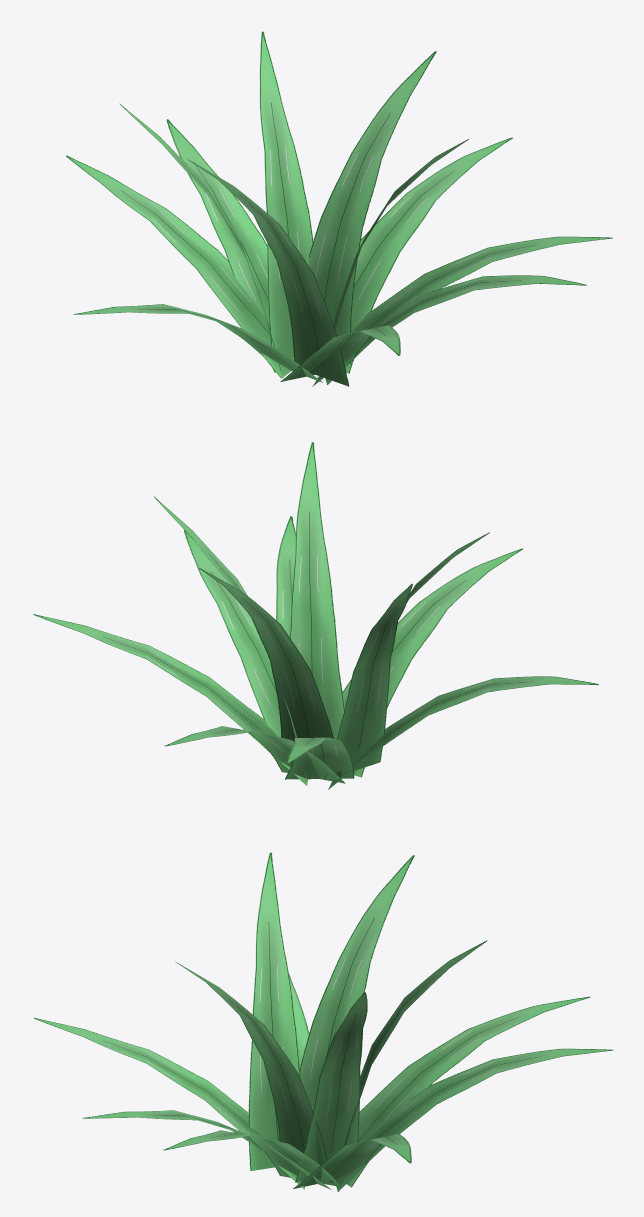
Rendered from grass.fbx.
3 views of the same model, one above another, from view 1: azimuth 30°, elevation 25°; view 2: azimuth 150°, elevation 25°; view 3: azimuth 270°, elevation 25° (orthographic). The views are drawn at different scales.
Parts seen in each view (by area): view 1: leaf.009, leaf.006, leaf.011, leaf.008, leaf.002, leaf.001, leaf.005, leaf, leaf.004, leaf.003, leaf.007, leaf.010; view 2: leaf.010, leaf.007, leaf.006, leaf.005, leaf.004, leaf.011, leaf.003, leaf.002, leaf.001, leaf, leaf.009; view 3: leaf.008, leaf.007, leaf.009, leaf.002, leaf.010, leaf.001, leaf.004, leaf.005, leaf.011, leaf.006, leaf, leaf.003.
Part boxes in pixels (x1,y1,x2,y2): leaf.009: [309, 51, 436, 363]; leaf.006: [259, 31, 313, 357]; leaf.011: [345, 137, 512, 373]; leaf.008: [187, 159, 349, 386]; leaf.002: [66, 155, 294, 378]; leaf.001: [166, 119, 294, 372]; leaf.005: [325, 236, 612, 384]; leaf: [312, 275, 586, 386]; leaf.004: [280, 325, 400, 381]; leaf.003: [73, 304, 322, 382]; leaf.007: [119, 103, 283, 379]; leaf.010: [317, 139, 468, 378]; leaf.010: [289, 442, 344, 739]; leaf.007: [325, 583, 412, 779]; leaf.006: [198, 567, 341, 776]; leaf.005: [184, 530, 288, 772]; leaf.004: [342, 548, 523, 777]; leaf.011: [33, 614, 307, 785]; leaf.003: [328, 676, 598, 789]; leaf.002: [284, 737, 354, 779]; leaf.001: [164, 726, 345, 783]; leaf: [276, 516, 295, 636]; leaf.009: [154, 496, 306, 777]; leaf.008: [248, 852, 300, 1170]; leaf.007: [299, 855, 414, 1111]; leaf.009: [295, 992, 367, 1182]; leaf.002: [346, 996, 590, 1187]; leaf.010: [175, 961, 332, 1182]; leaf.001: [336, 1048, 613, 1191]; leaf.004: [34, 1017, 304, 1189]; leaf.005: [163, 1130, 341, 1185]; leaf.011: [293, 1133, 411, 1188]; leaf.006: [336, 940, 487, 1183]; leaf: [83, 1110, 331, 1189]; leaf.003: [288, 972, 309, 1068].
Bounding box in the file's own units: 376 × 180 × 380.
